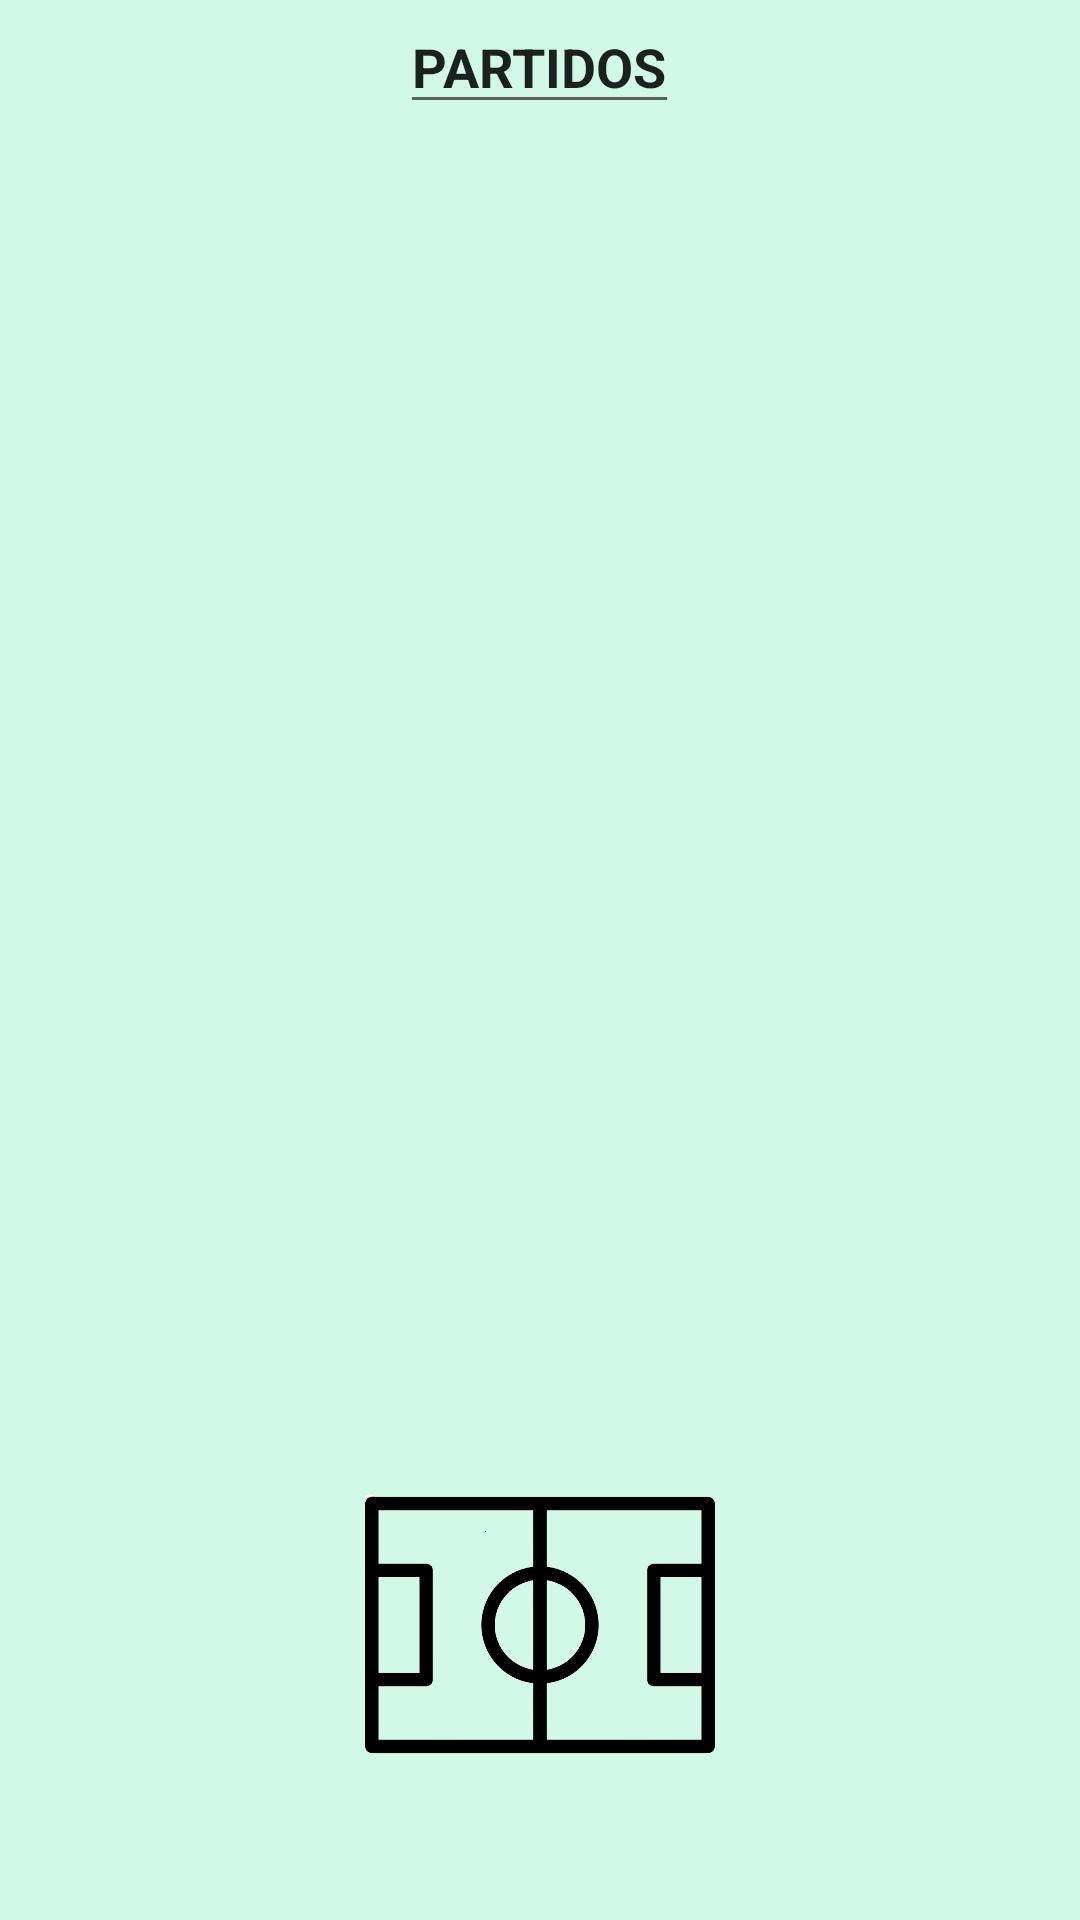

Point at icon controls on the screen. Image size 1080*1920, points as [x,y].
partido campo: [540,1623]
